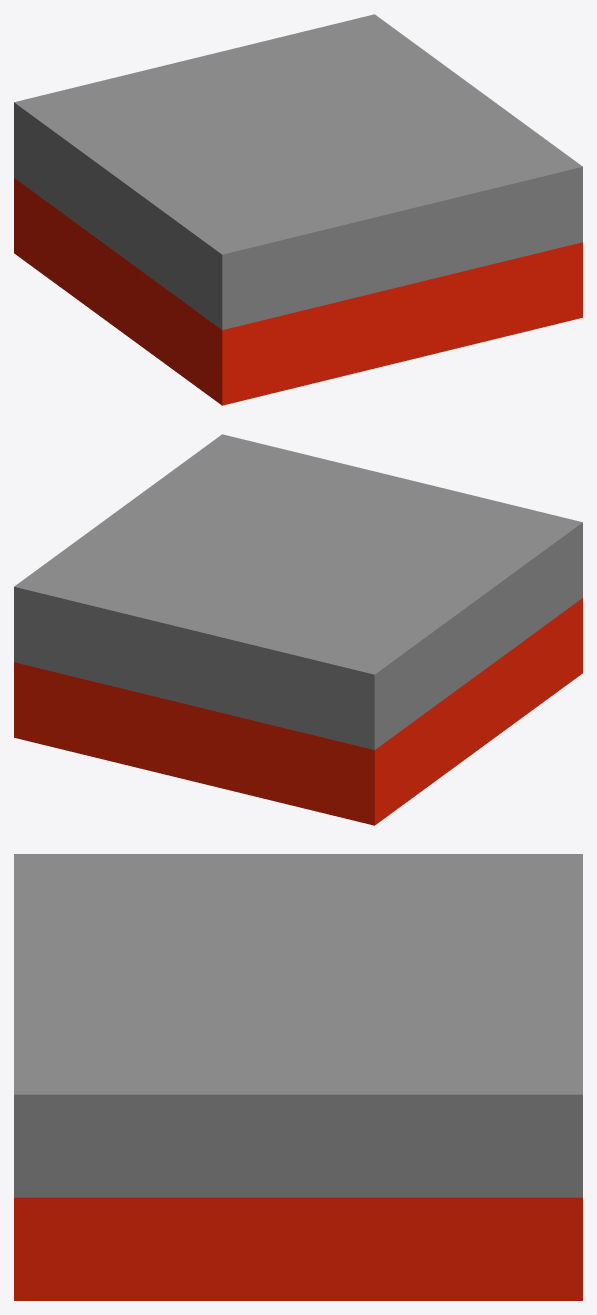
File: Corner_Floor_001.FBX
3 views of the same model, one above another, from view 1: azimuth 30°, elevation 25°; view 2: azimuth 150°, elevation 25°; view 3: azimuth 270°, elevation 25° (orthographic). The views are drawn at different scales.
Visible parts, largest first — view 1: Corner_Floor_001; view 2: Corner_Floor_001; view 3: Corner_Floor_001.
Part boxes in pixels (left/top/right/bottom): Corner_Floor_001: left=14, top=14, right=582, bottom=405; Corner_Floor_001: left=14, top=434, right=582, bottom=825; Corner_Floor_001: left=14, top=854, right=582, bottom=1300.
Size of the model in its own units: 50 by 50 by 20.
